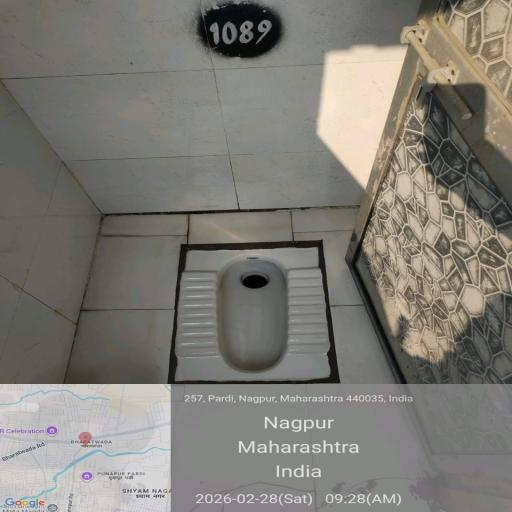clean_floor: (0, 0, 381, 192), (387, 40, 512, 372)
clean_indian: (177, 256, 331, 380)
partial_dirty_floor: (40, 193, 397, 379)
